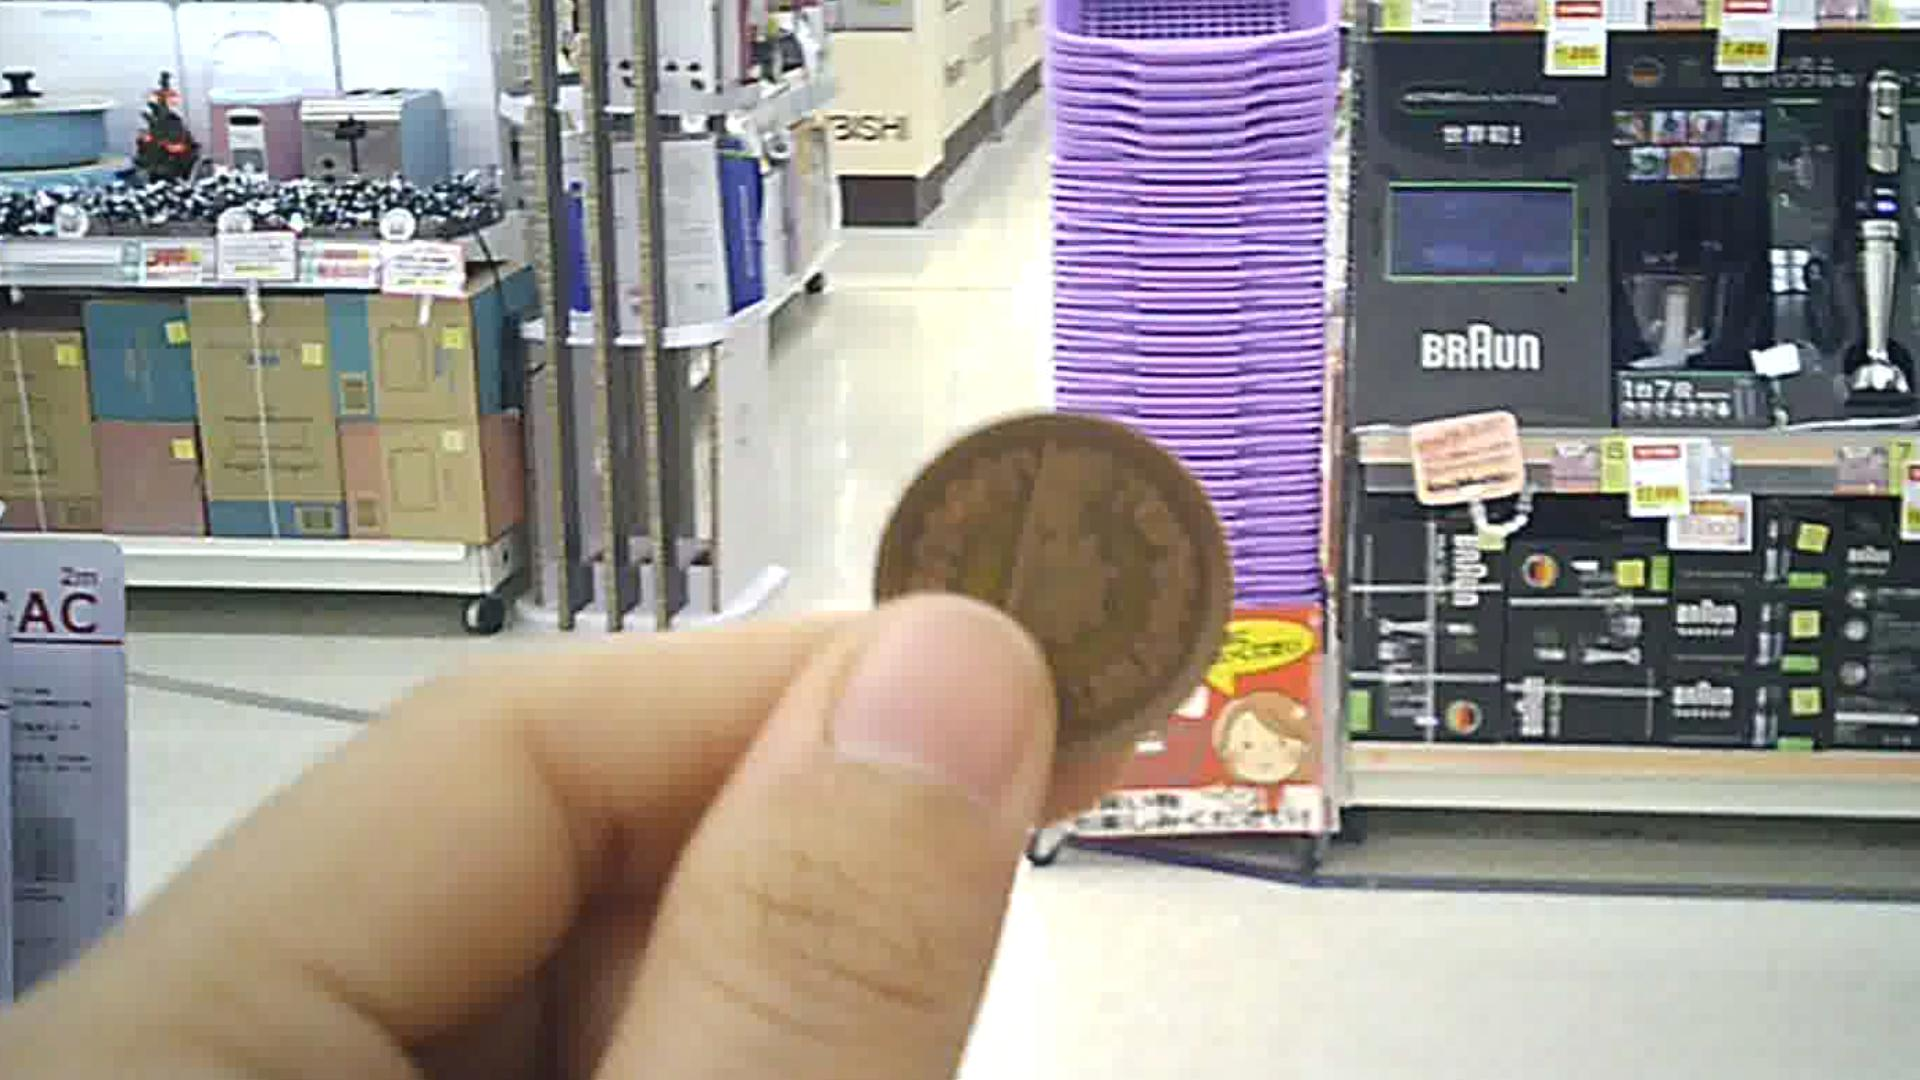10 Yen: (848, 400, 1237, 764)
